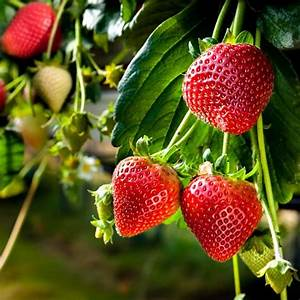Fresa: (173, 36, 278, 141), (181, 168, 266, 268), (106, 148, 188, 244), (2, 1, 65, 64)
